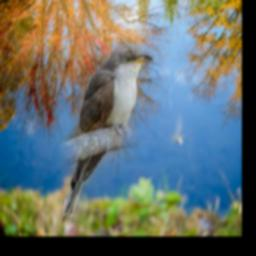Cuckoo: (60, 42, 154, 226)
